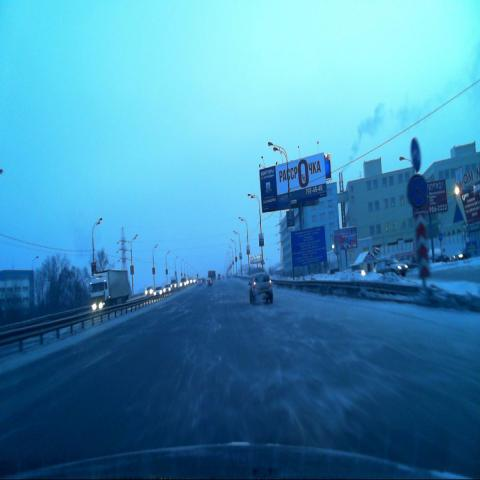4_2_3: (410, 137, 421, 172)
